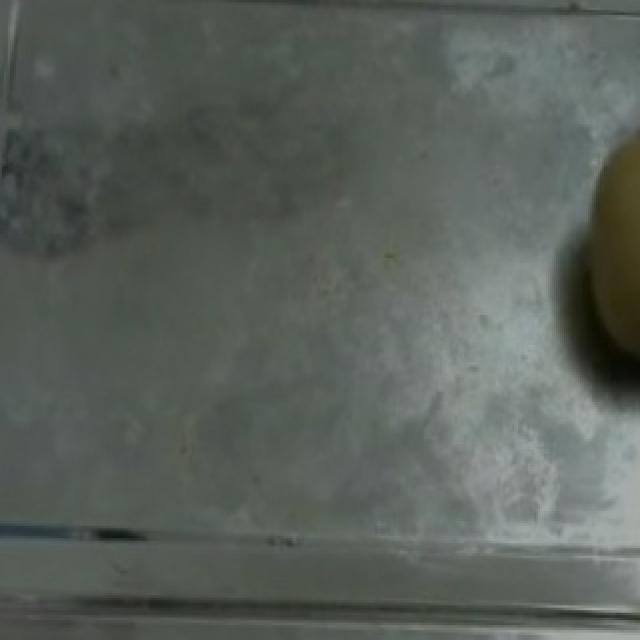Fruit: (570, 114, 640, 397)
